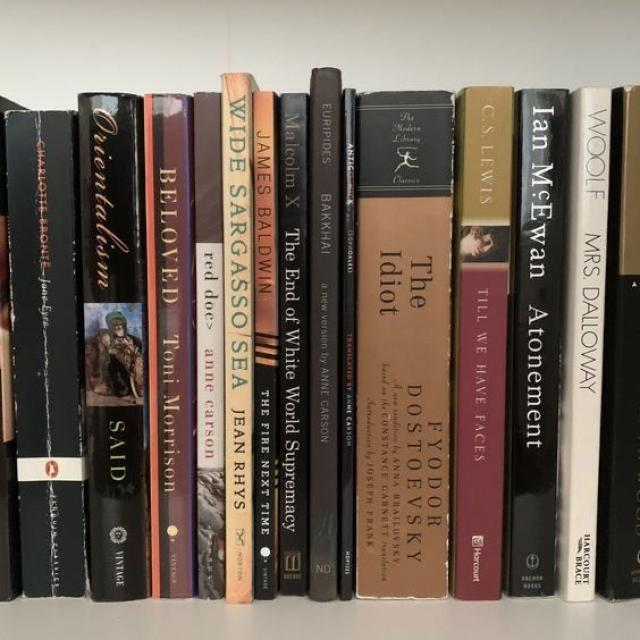book: (355, 91, 452, 598), (6, 110, 86, 597), (81, 93, 148, 600), (505, 89, 567, 596), (452, 86, 513, 599), (556, 87, 609, 600), (145, 93, 196, 598), (222, 73, 255, 603), (246, 91, 279, 599), (309, 68, 340, 600), (195, 93, 225, 599), (278, 94, 308, 595)
